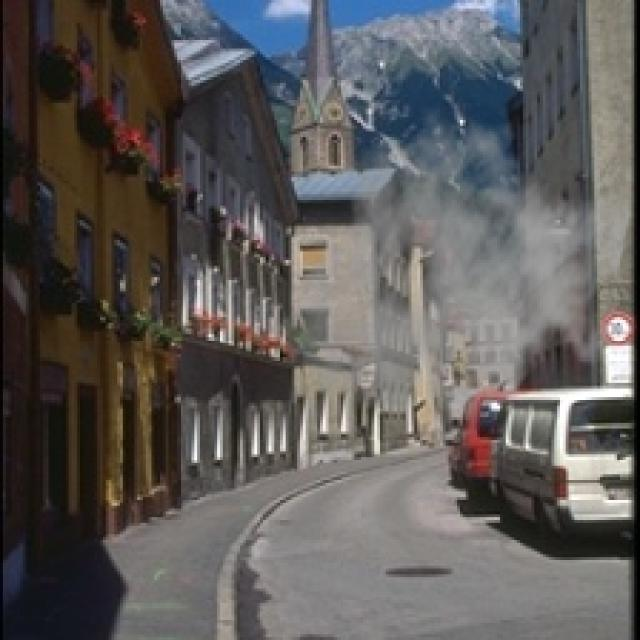smoke: (283, 103, 634, 460)
